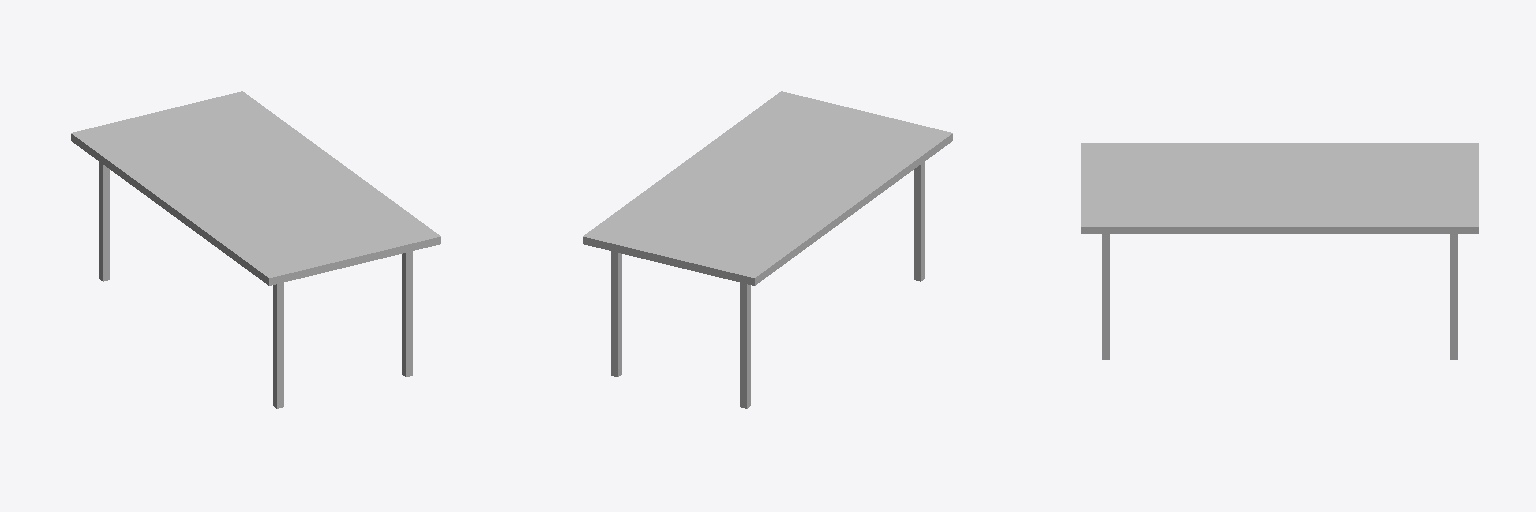
File: table.obj
The picture shows the model from 3 angles: view 1: azimuth 30°, elevation 25°; view 2: azimuth 150°, elevation 25°; view 3: azimuth 270°, elevation 25°; orthographic projection.
Parts seen in each view (by area): view 1: Cube.003_Cube.004; view 2: Cube.003_Cube.004; view 3: Cube.003_Cube.004.
Part boxes in pixels (left/top/right/bottom): Cube.003_Cube.004: left=71, top=91, right=440, bottom=408; Cube.003_Cube.004: left=583, top=91, right=952, bottom=408; Cube.003_Cube.004: left=1081, top=143, right=1478, bottom=359.
Bounding box in the file's own units: 48 × 38 × 96.